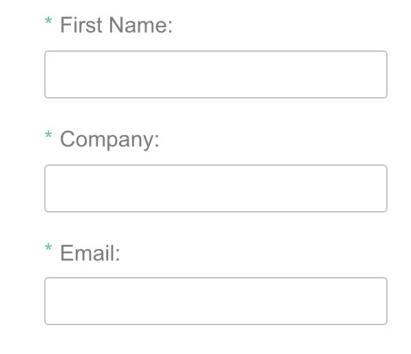field: (41, 161, 391, 214), (42, 47, 388, 100), (40, 278, 391, 326)
field_with_label: (37, 12, 391, 103), (35, 129, 396, 217), (37, 245, 392, 329)
